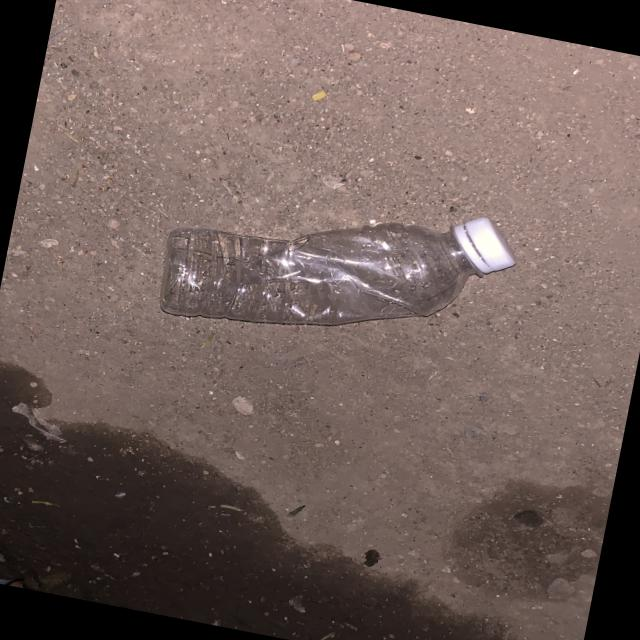Bottle: (160, 217, 515, 326)
